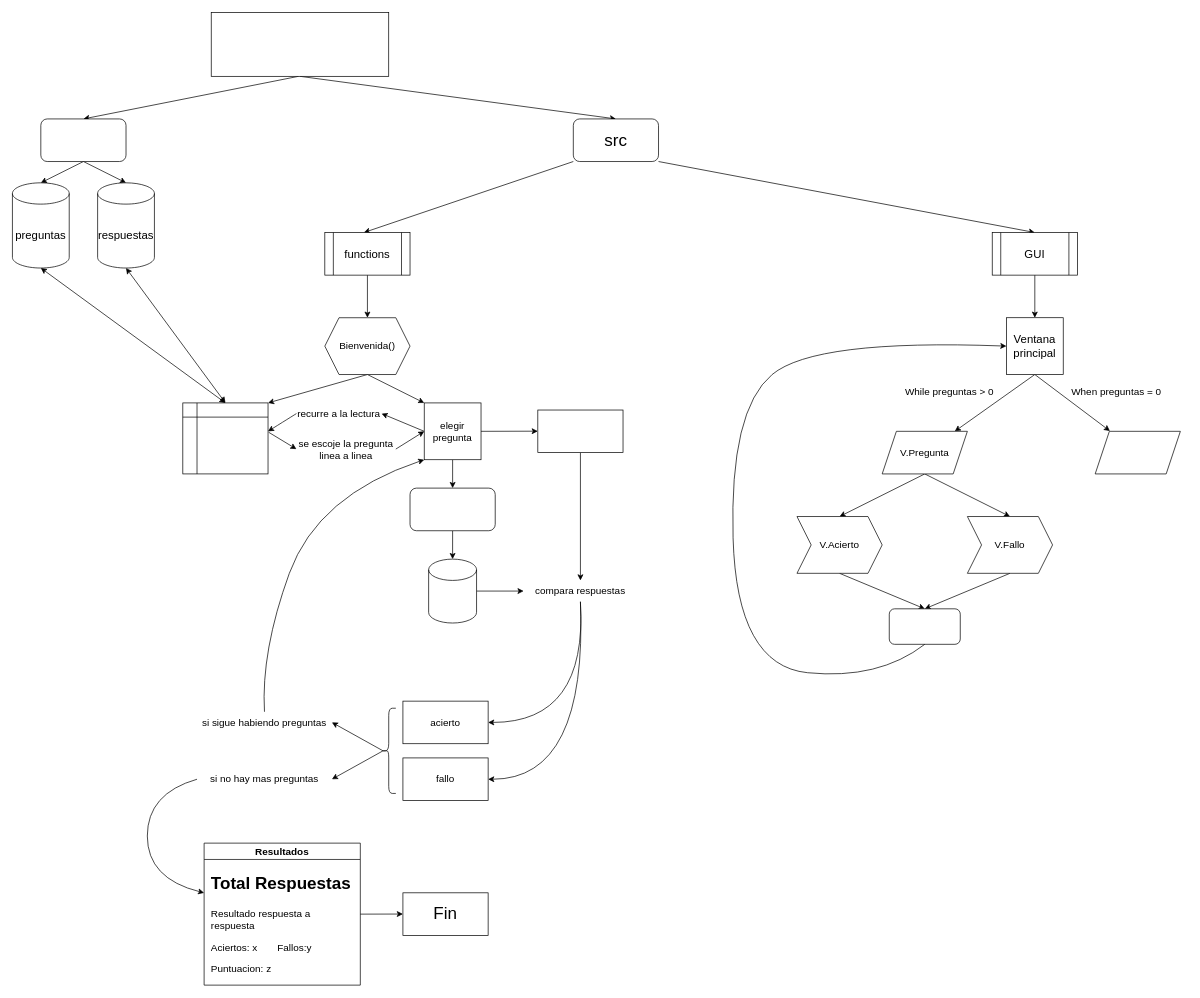
Some shapes in this 1200 by 998 pixel diagram are drawn without their labels. Each missing label, with the centre of its shape:
"almacena respuesta" belongs at (x=452, y=590).
"data" belongs at (x=83, y=140).
"leer: - preguntas - respuestas" belongs at (x=225, y=438).
"llama a la respuesta asignada" belongs at (x=580, y=431).
"muestra pregunta" belongs at (x=452, y=509).
"pregunta-1" belongs at (x=924, y=626).
"Quest" belongs at (x=300, y=44).
"V.Fin" belongs at (x=1137, y=452).
